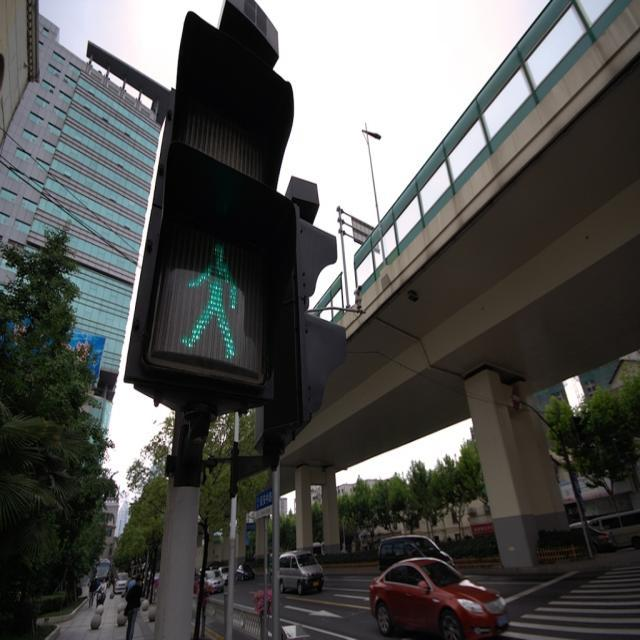off traffic light: (254, 204, 346, 471), (571, 415, 585, 446)
traffic light: (137, 10, 298, 447)
